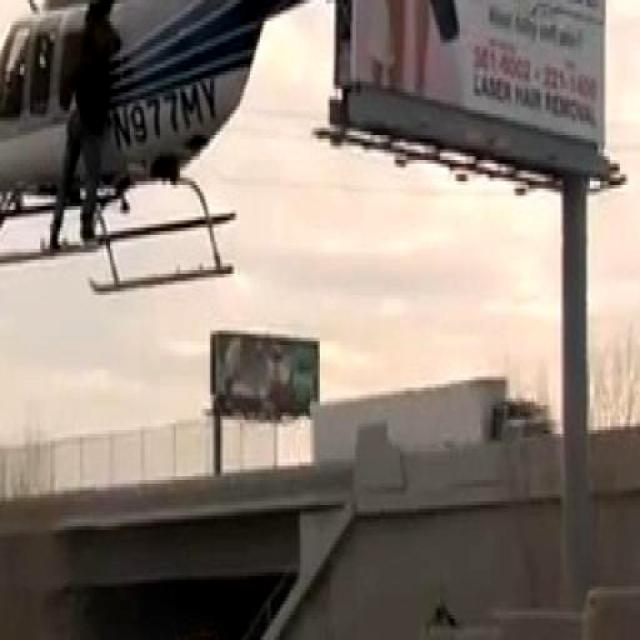drone: (0, 0, 558, 302)
